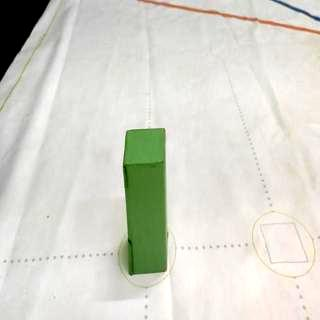greenbox: (124, 128, 166, 275)
